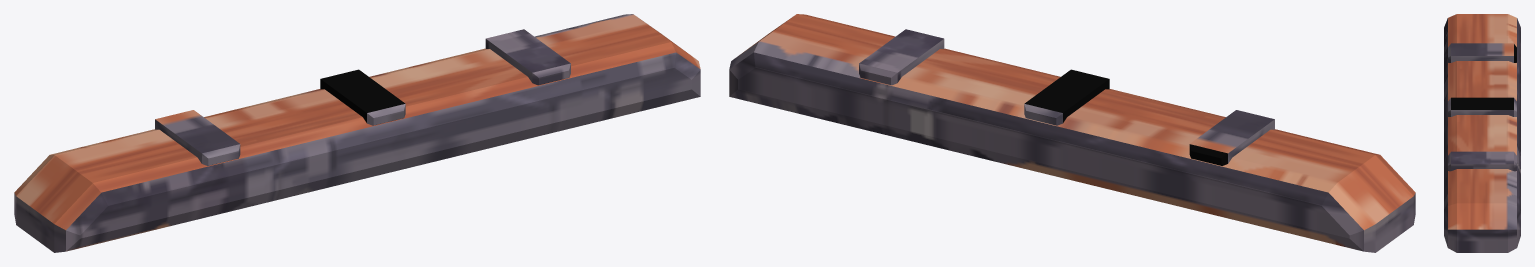
File: rifle_cover.fbx
The picture shows the model from 3 angles, left to right: view 1: azimuth 30°, elevation 25°; view 2: azimuth 150°, elevation 25°; view 3: azimuth 270°, elevation 25°; orthographic projection. The views are drawn at different scales.
Parts seen in each view (by area): view 1: rifle_cover; view 2: rifle_cover; view 3: rifle_cover.
Boxes of the visible parts, bbox=[...] form: rifle_cover: bbox=[14, 14, 700, 252]; rifle_cover: bbox=[729, 14, 1415, 252]; rifle_cover: bbox=[1444, 14, 1520, 252].
Size of the model in its own units: 0.8775 by 0.0881 by 0.135.
